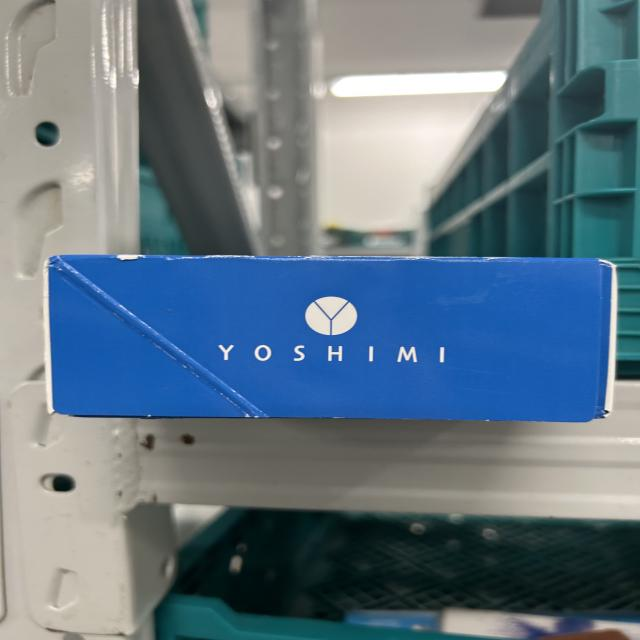object_name: (47, 250, 601, 420)
